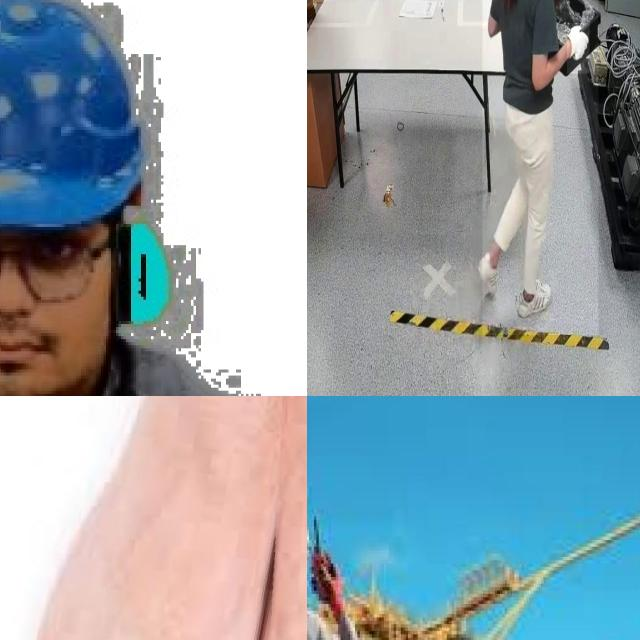Barefoots: (28, 396, 299, 640)
Ear-protection: (0, 201, 198, 336)
hand_glove: (567, 23, 589, 74)
head_helmet: (0, 0, 158, 230)
person: (482, 0, 599, 335)
shoes: (514, 275, 552, 318), (478, 248, 500, 296)
